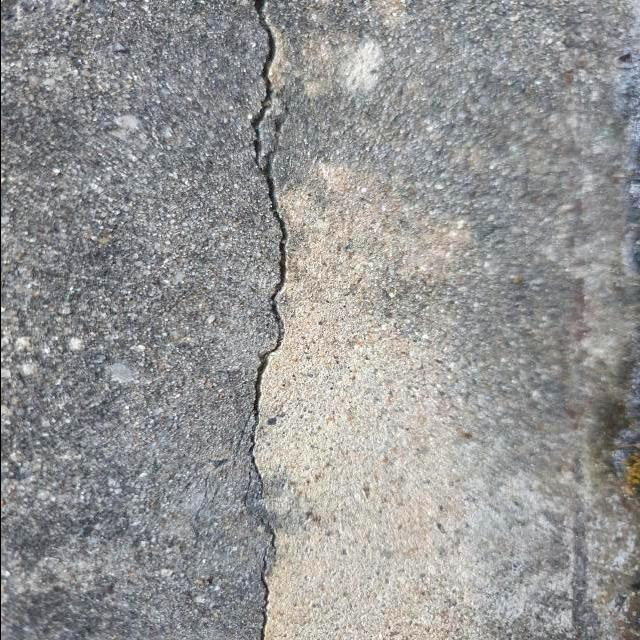SurfaceCrack: (216, 0, 321, 640)
